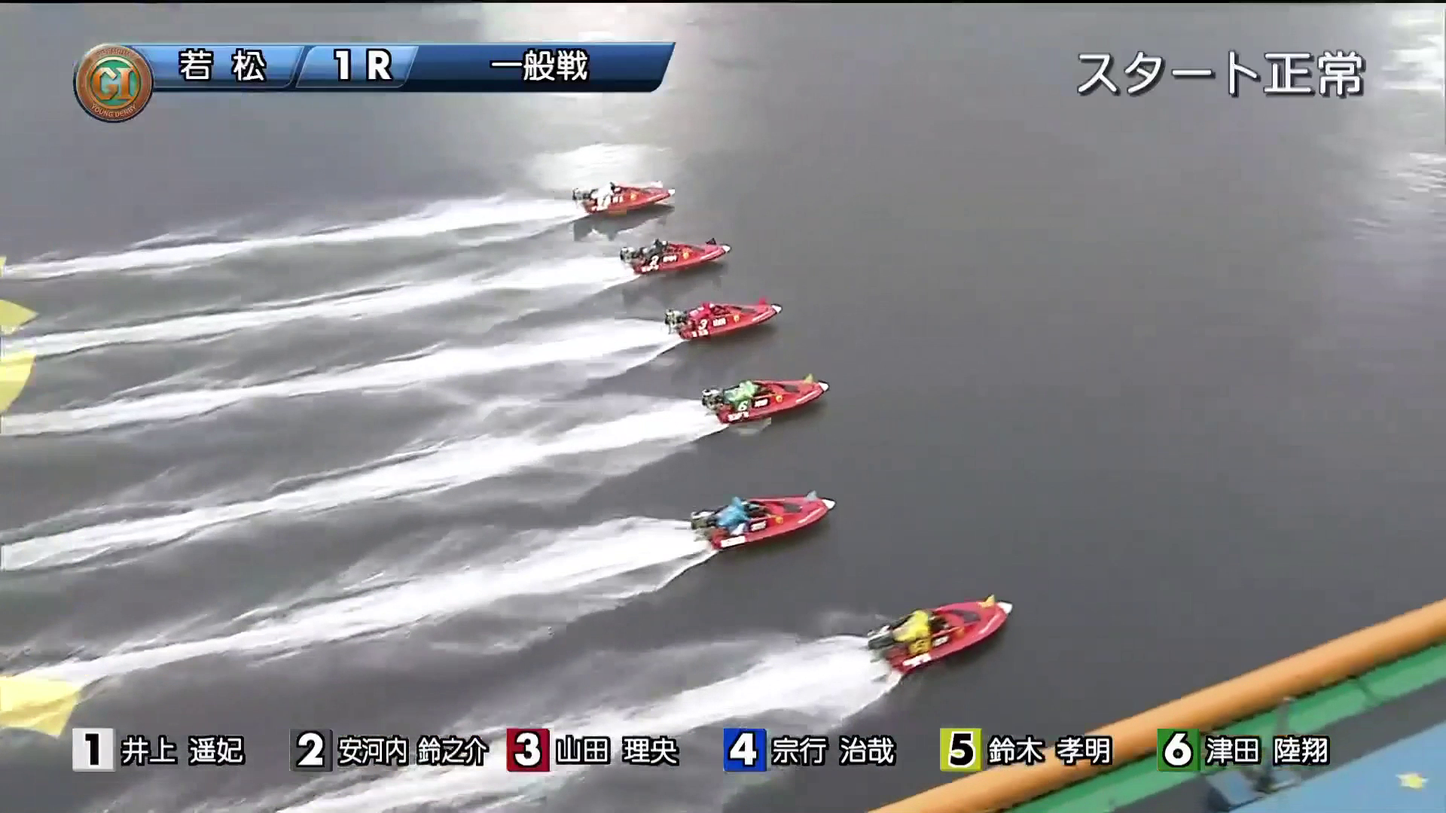１号艇: (588, 177, 664, 217)
２号艇: (620, 232, 723, 270)
３号艇: (664, 295, 789, 336)
４号艇: (706, 371, 811, 414)
５号艇: (688, 491, 808, 546)
６号艇: (837, 600, 995, 657)
